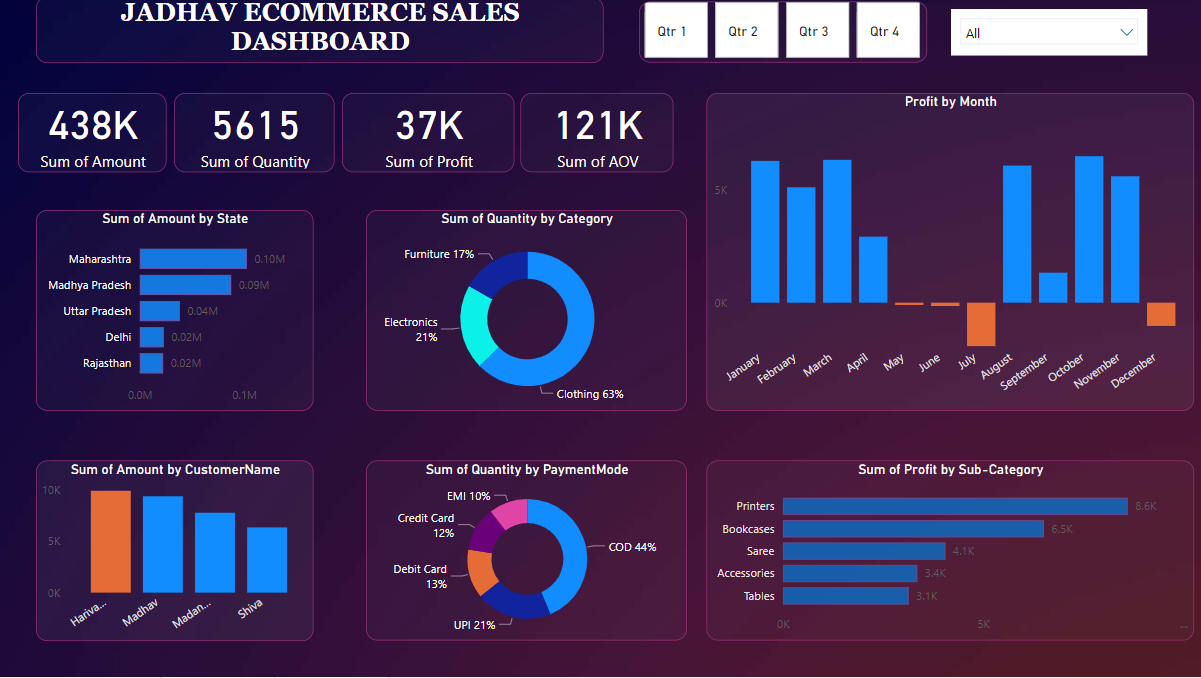

Layout of this report page (visuals, bound fields, positions):
{"tool":"powerbi","page":{"name":"Page 1","canvas":[1280,720],"ordinal":0},"visuals":[{"type":"textbox","box":[38.6,0,601.1,69.9],"z":0},{"type":"columnChart","title":"Profit by Month","fields":{"Category":["Orders.Order Date.Variation.Date Hierarchy.Month"],"Y":["Details.Profit"]},"box":[748.6,101.7,516.6,337],"z":1000},{"type":"barChart","fields":{"Category":["Details.Sub-Category"],"Y":["Details.Profit"]},"box":[748.6,491.1,516.6,190.7],"z":2000},{"type":"donutChart","fields":{"Category":["Details.Category"],"Y":["Details.Quantity"]},"box":[387.8,225.7,340.1,213],"z":3000},{"type":"donutChart","fields":{"Y":["Details.Quantity"],"Category":["Details.PaymentMode"]},"box":[387.8,491.1,340.1,190.7],"z":4000},{"type":"card","fields":{"Values":["Details.Amount"]},"box":[19.1,101.7,157.4,84.2],"z":5000},{"type":"card","fields":{"Values":["Details.Quantity"]},"box":[184.4,101.7,170.1,84.2],"z":6000},{"type":"card","fields":{"Values":["Details.Profit"]},"box":[362.4,101.7,182.8,84.2],"z":7000},{"type":"card","fields":{"Values":["Details.AOV"]},"box":[551.5,101.7,162.1,84.2],"z":8000},{"type":"barChart","fields":{"Category":["Orders.State"],"Y":["Details.Amount"]},"box":[38.1,225.7,294,213],"z":9000},{"type":"columnChart","fields":{"Category":["Orders.CustomerName"],"Y":["Details.Amount"]},"box":[38,491,294,191],"z":10000},{"type":"advancedSlicerVisual","fields":{"Values":["Orders.Order Date.Variation.Date Hierarchy.Quarter"]},"box":[676.5,5.5,305.1,64.3],"z":11000},{"type":"slicer","fields":{"Values":["Orders.State"]},"box":[1007.7,12.7,208.2,49.3],"z":12000}]}

Visuals, with their boxes in screenshot pixels (x1, y1, x2, y2), scaled from the page's 1280x720 canvas onto the 1201x678 screenshot:
textbox: rect(36, 0, 600, 66)
"Profit by Month" columnChart: rect(702, 96, 1187, 413)
barChart - Details.Sub-Category x Details.Profit: rect(702, 462, 1187, 642)
donutChart - Details.Category x Details.Quantity: rect(364, 213, 683, 413)
donutChart - Details.Quantity x Details.PaymentMode: rect(364, 462, 683, 642)
card - Details.Amount: rect(18, 96, 166, 175)
card - Details.Quantity: rect(173, 96, 333, 175)
card - Details.Profit: rect(340, 96, 512, 175)
card - Details.AOV: rect(517, 96, 670, 175)
barChart - Orders.State x Details.Amount: rect(36, 213, 312, 413)
columnChart - Orders.CustomerName x Details.Amount: rect(36, 462, 312, 642)
advancedSlicerVisual - Orders.Order Date.Variation.Date Hierarchy.Quarter: rect(635, 5, 921, 66)
slicer - Orders.State: rect(946, 12, 1141, 58)
